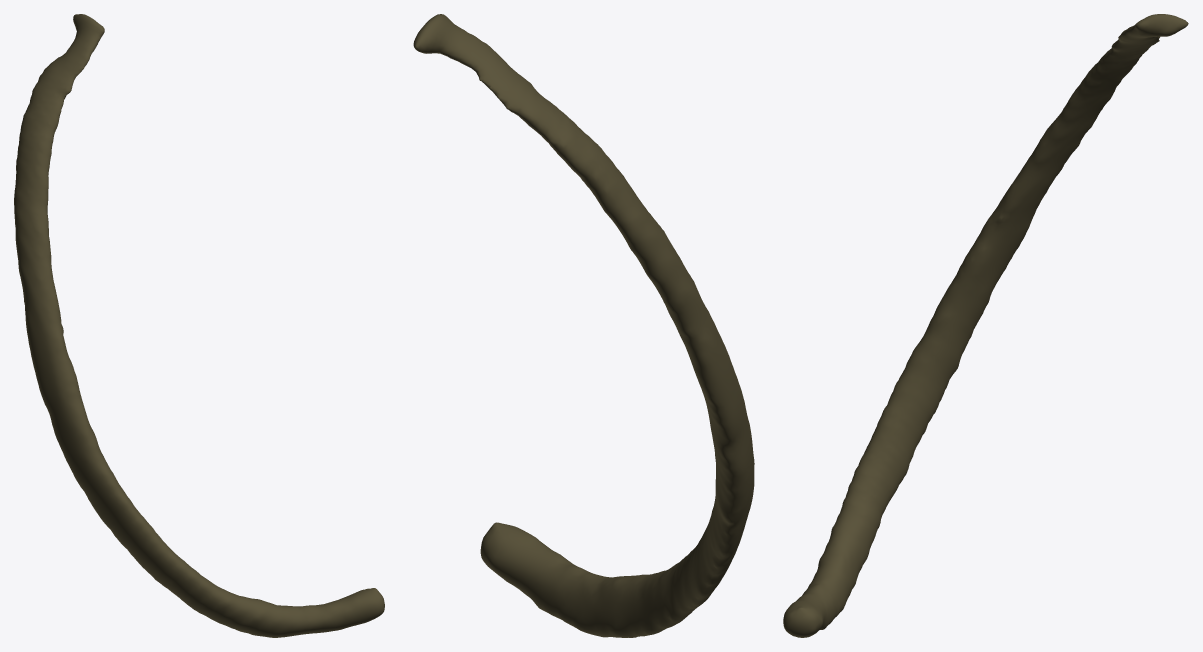
Rendered from segmentations_rib_left_4.obj.
3 renders of one model, left to right at view 1: azimuth 30°, elevation 25°; view 2: azimuth 150°, elevation 25°; view 3: azimuth 270°, elevation 25°, orthographic. The views are drawn at different scales.
Parts seen in each view (by area): view 1: grp1; view 2: grp1; view 3: grp1.
Part boxes in pixels (x1,y1,x2,y2): grp1: (14, 14, 384, 637); grp1: (413, 14, 754, 637); grp1: (783, 14, 1188, 637).
Bounding box in the file's own units: 55.14 × 109 × 70.11.
